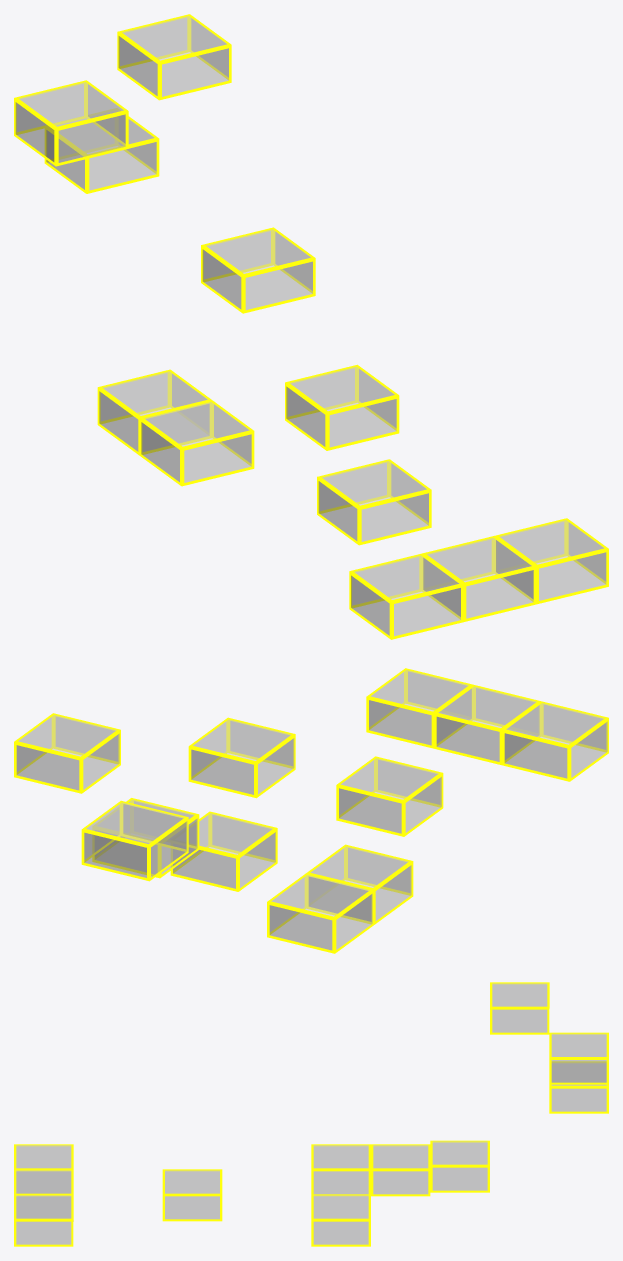
Rendered from (6)H XPlat.fbx.
3 views of the same model, one above another, from view 1: azimuth 30°, elevation 25°; view 2: azimuth 150°, elevation 25°; view 3: azimuth 270°, elevation 25° (orthographic). The views are drawn at different scales.
Parts seen in each view (by area): view 1: Platform.006, Platform.005, Platform.009, Platform.013, Platform.010, Platform.002, Platform.007, Platform.003, Platform.004, Platform.011, Platform.012; view 2: Platform.005, Platform.011, Platform.013, Platform.002, Platform.010, Platform.012, Platform.006, Platform.007, Platform.004, Platform.003, Platform.009; view 3: Platform.005, Platform.004, Platform.007, Platform.009, Platform.010, Platform.013, Platform.012, Platform.006, Platform.011, Platform.002, Platform.003.
Boxes of the visible parts, x1=… form: Platform.006: x1=139, y1=400, x2=254, y2=486; Platform.005: x1=317, y1=459, x2=431, y2=545; Platform.009: x1=201, y1=227, x2=315, y2=313; Platform.013: x1=14, y1=80, x2=128, y2=166; Platform.010: x1=117, y1=14, x2=231, y2=100; Platform.002: x1=349, y1=553, x2=463, y2=639; Platform.007: x1=285, y1=364, x2=399, y2=450; Platform.003: x1=422, y1=536, x2=536, y2=621; Platform.004: x1=494, y1=518, x2=608, y2=604; Platform.011: x1=44, y1=108, x2=159, y2=193; Platform.012: x1=97, y1=369, x2=211, y2=455; Platform.005: x1=336, y1=756, x2=443, y2=836; Platform.011: x1=81, y1=800, x2=188, y2=881; Platform.013: x1=188, y1=717, x2=295, y2=798; Platform.002: x1=502, y1=701, x2=608, y2=781; Platform.010: x1=14, y1=713, x2=120, y2=793; Platform.012: x1=267, y1=873, x2=373, y2=953; Platform.006: x1=306, y1=844, x2=413, y2=924; Platform.007: x1=170, y1=811, x2=277, y2=891; Platform.004: x1=366, y1=668, x2=472, y2=748; Platform.003: x1=434, y1=684, x2=541, y2=765; Platform.009: x1=92, y1=798, x2=199, y2=878; Platform.005: x1=162, y1=1169, x2=222, y2=1221; Platform.004: x1=14, y1=1194, x2=73, y2=1246; Platform.007: x1=311, y1=1194, x2=370, y2=1246; Platform.009: x1=430, y1=1140, x2=489, y2=1192; Platform.010: x1=549, y1=1032, x2=608, y2=1084; Platform.013: x1=490, y1=982, x2=549, y2=1034; Platform.012: x1=371, y1=1144, x2=430, y2=1196; Platform.006: x1=311, y1=1144, x2=370, y2=1194; Platform.011: x1=549, y1=1061, x2=608, y2=1113; Platform.002: x1=14, y1=1144, x2=73, y2=1193; Platform.003: x1=14, y1=1169, x2=73, y2=1218.
Bounding box in the file's own units: 600 × 700 × 2000.
